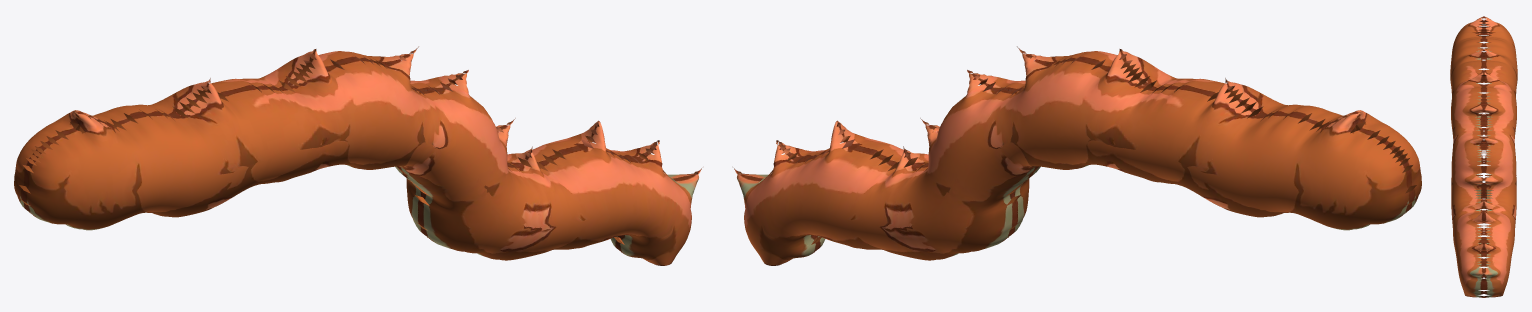
Rendered from orange_thorn_root.glb.
The picture shows the model from 3 angles, left to right: view 1: azimuth 30°, elevation 25°; view 2: azimuth 150°, elevation 25°; view 3: azimuth 270°, elevation 25°; orthographic projection. The views are drawn at different scales.
Parts seen in each view (by area): view 1: orange_thorn_root; view 2: orange_thorn_root; view 3: orange_thorn_root.
Boxes of the visible parts, x1,y1,x2,y2 form: orange_thorn_root: (14,46,701,265); orange_thorn_root: (734,46,1421,265); orange_thorn_root: (1450,16,1517,297).
Bounding box in the file's own units: 0.9893 × 0.3941 × 0.1699.
Materials: 1 (1 with a texture image).
